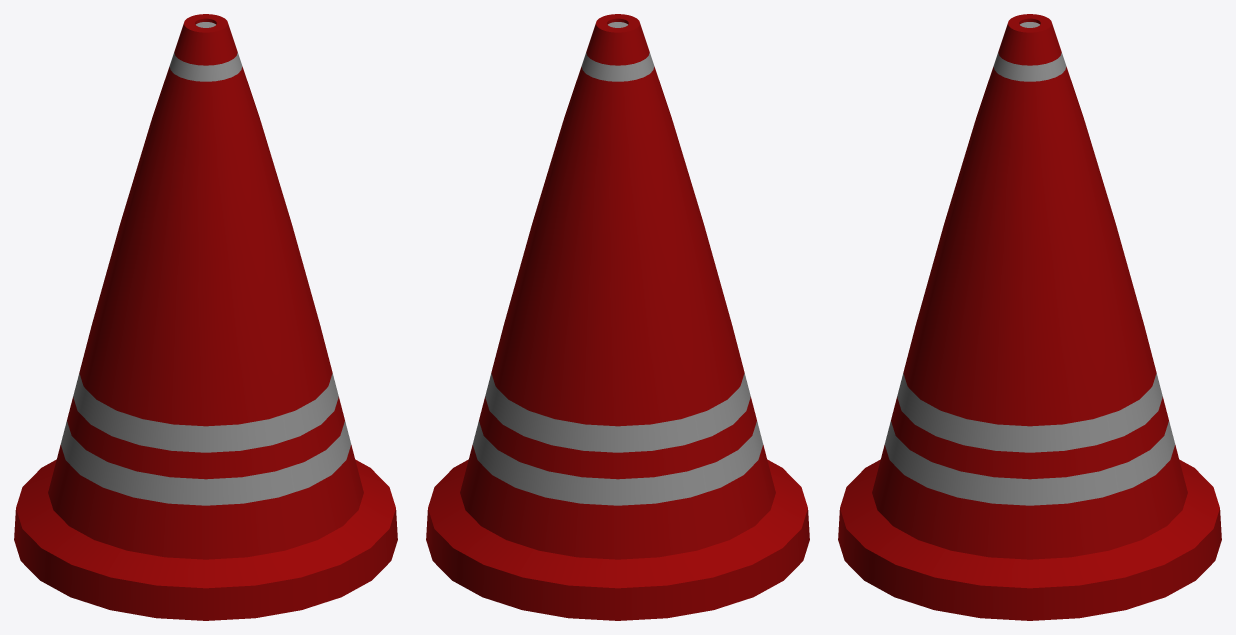
The model's file is CCDS_Model_Trailblazer.FBX.
3 renders of one model, left to right at view 1: azimuth 30°, elevation 25°; view 2: azimuth 150°, elevation 25°; view 3: azimuth 270°, elevation 25°, orthographic.
Parts seen in each view (by area): view 1: Cone001; view 2: Cone001; view 3: Cone001.
Part boxes in pixels (left/top/right/bottom): Cone001: left=14, top=14, right=397, bottom=620; Cone001: left=426, top=14, right=809, bottom=620; Cone001: left=838, top=14, right=1221, bottom=620.
Bounding box in the file's own units: 16.39 × 24.33 × 16.39.
